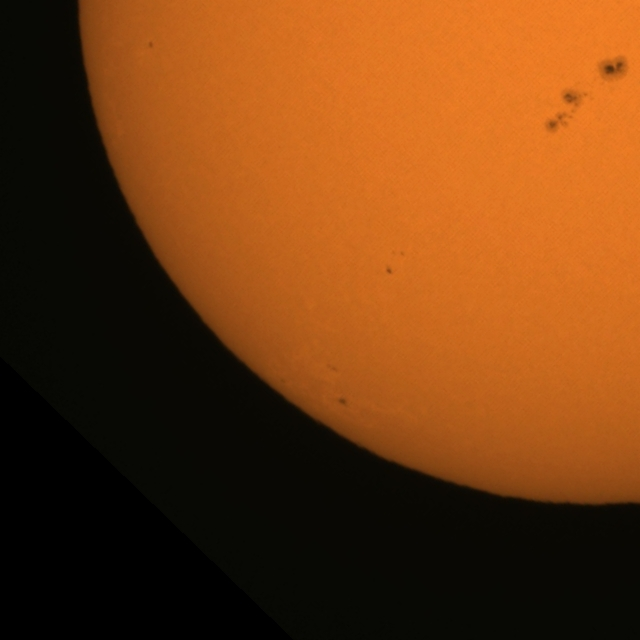sunspot: (544, 88, 584, 136), (601, 56, 629, 82), (384, 255, 403, 275), (387, 249, 405, 269), (326, 362, 340, 374), (390, 249, 406, 259), (336, 396, 348, 407), (385, 264, 394, 276), (147, 40, 155, 50)
